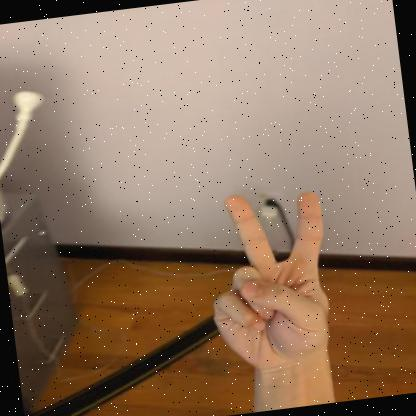V: (213, 191, 329, 371)
